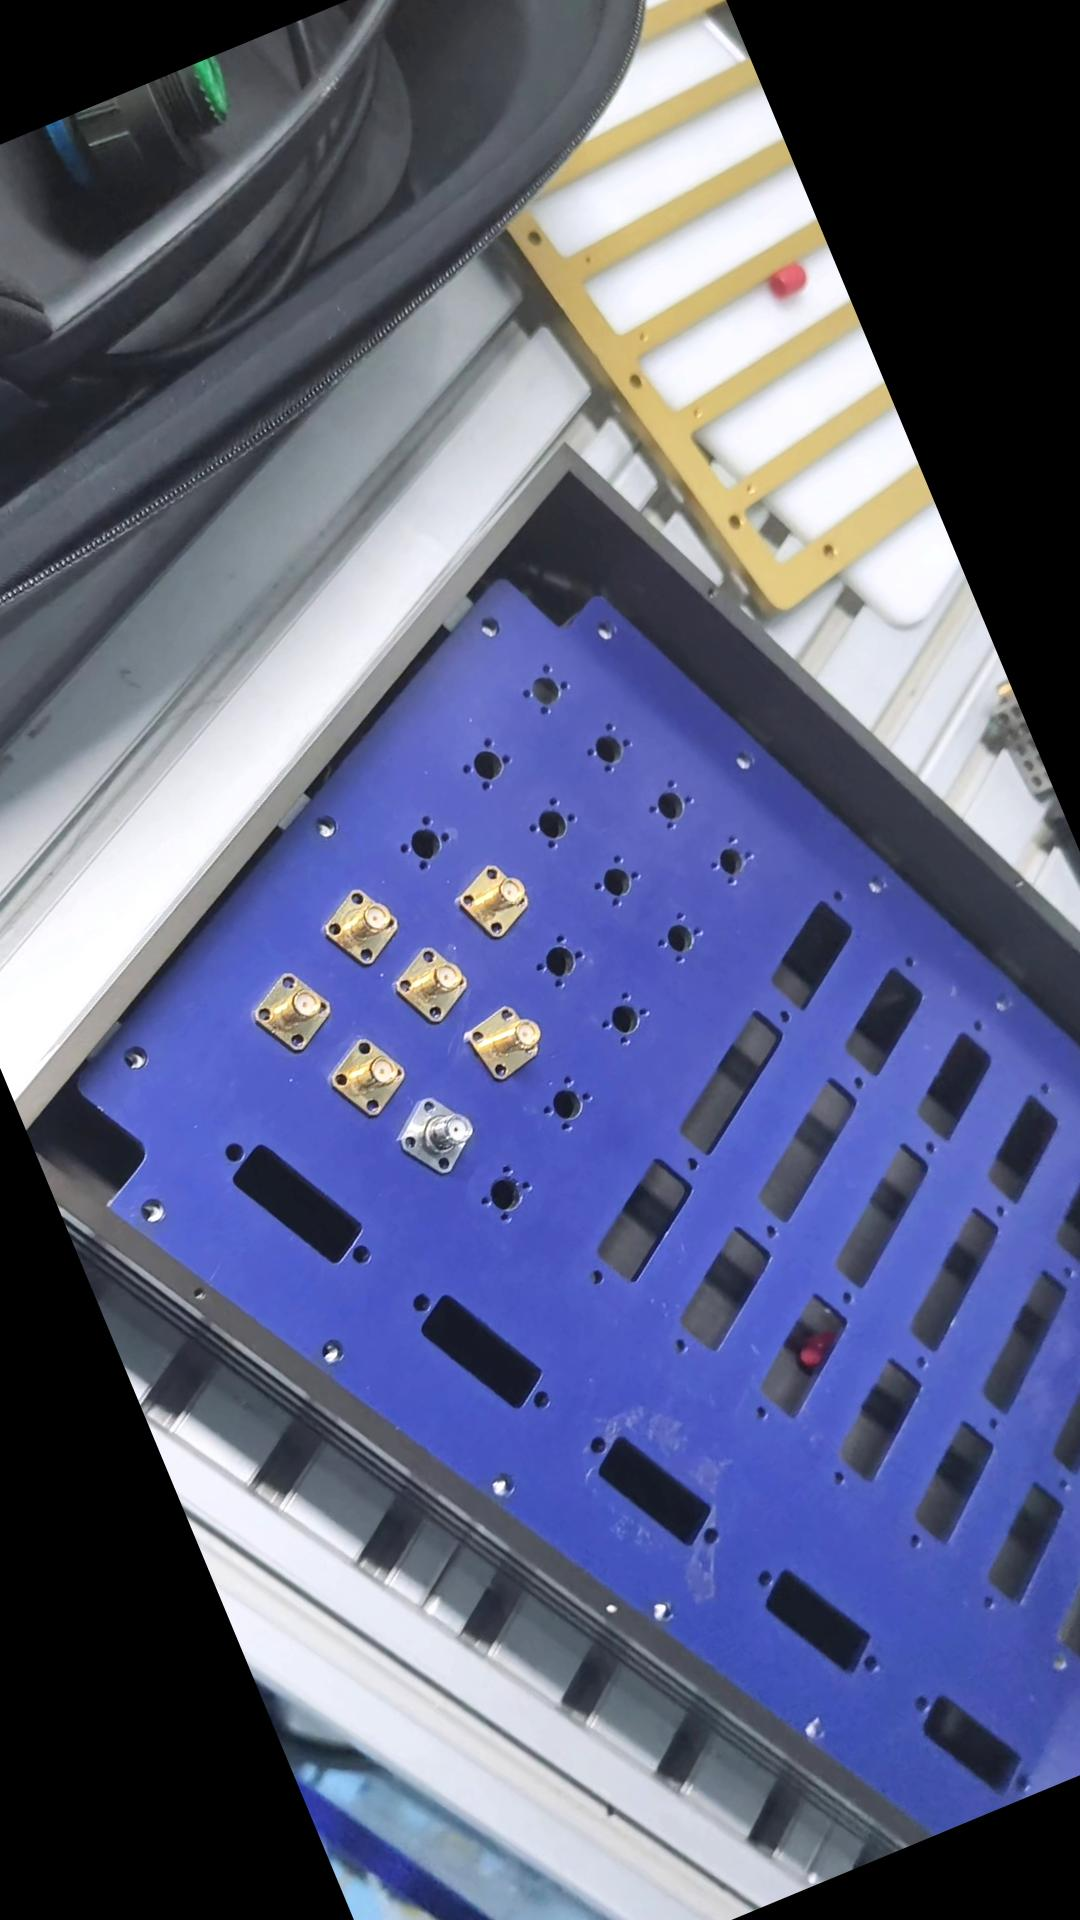SMA: (385, 1079, 491, 1184), (378, 932, 483, 1036), (443, 851, 547, 953), (316, 1026, 419, 1125), (243, 963, 345, 1060), (462, 989, 560, 1088), (315, 873, 413, 973)
